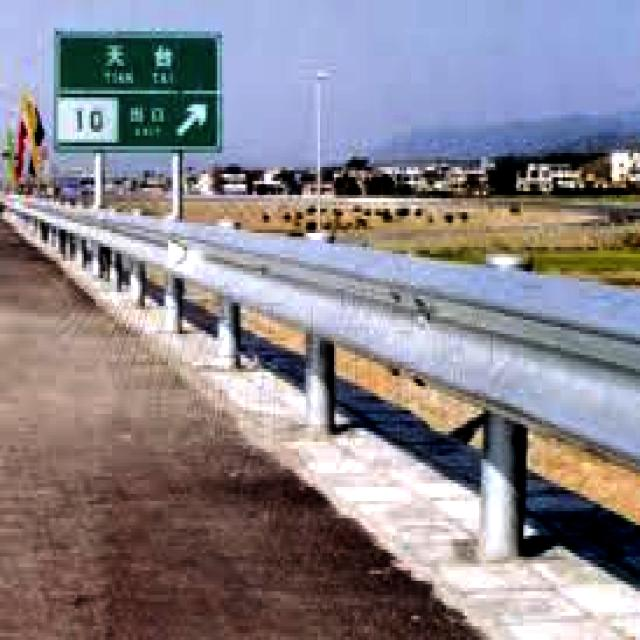Guard rail: (8, 202, 640, 463)
